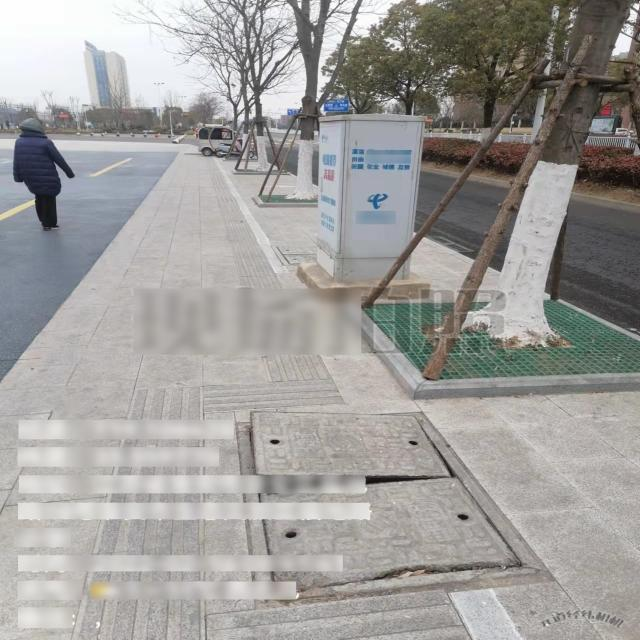Faulty: (228, 408, 558, 607)
